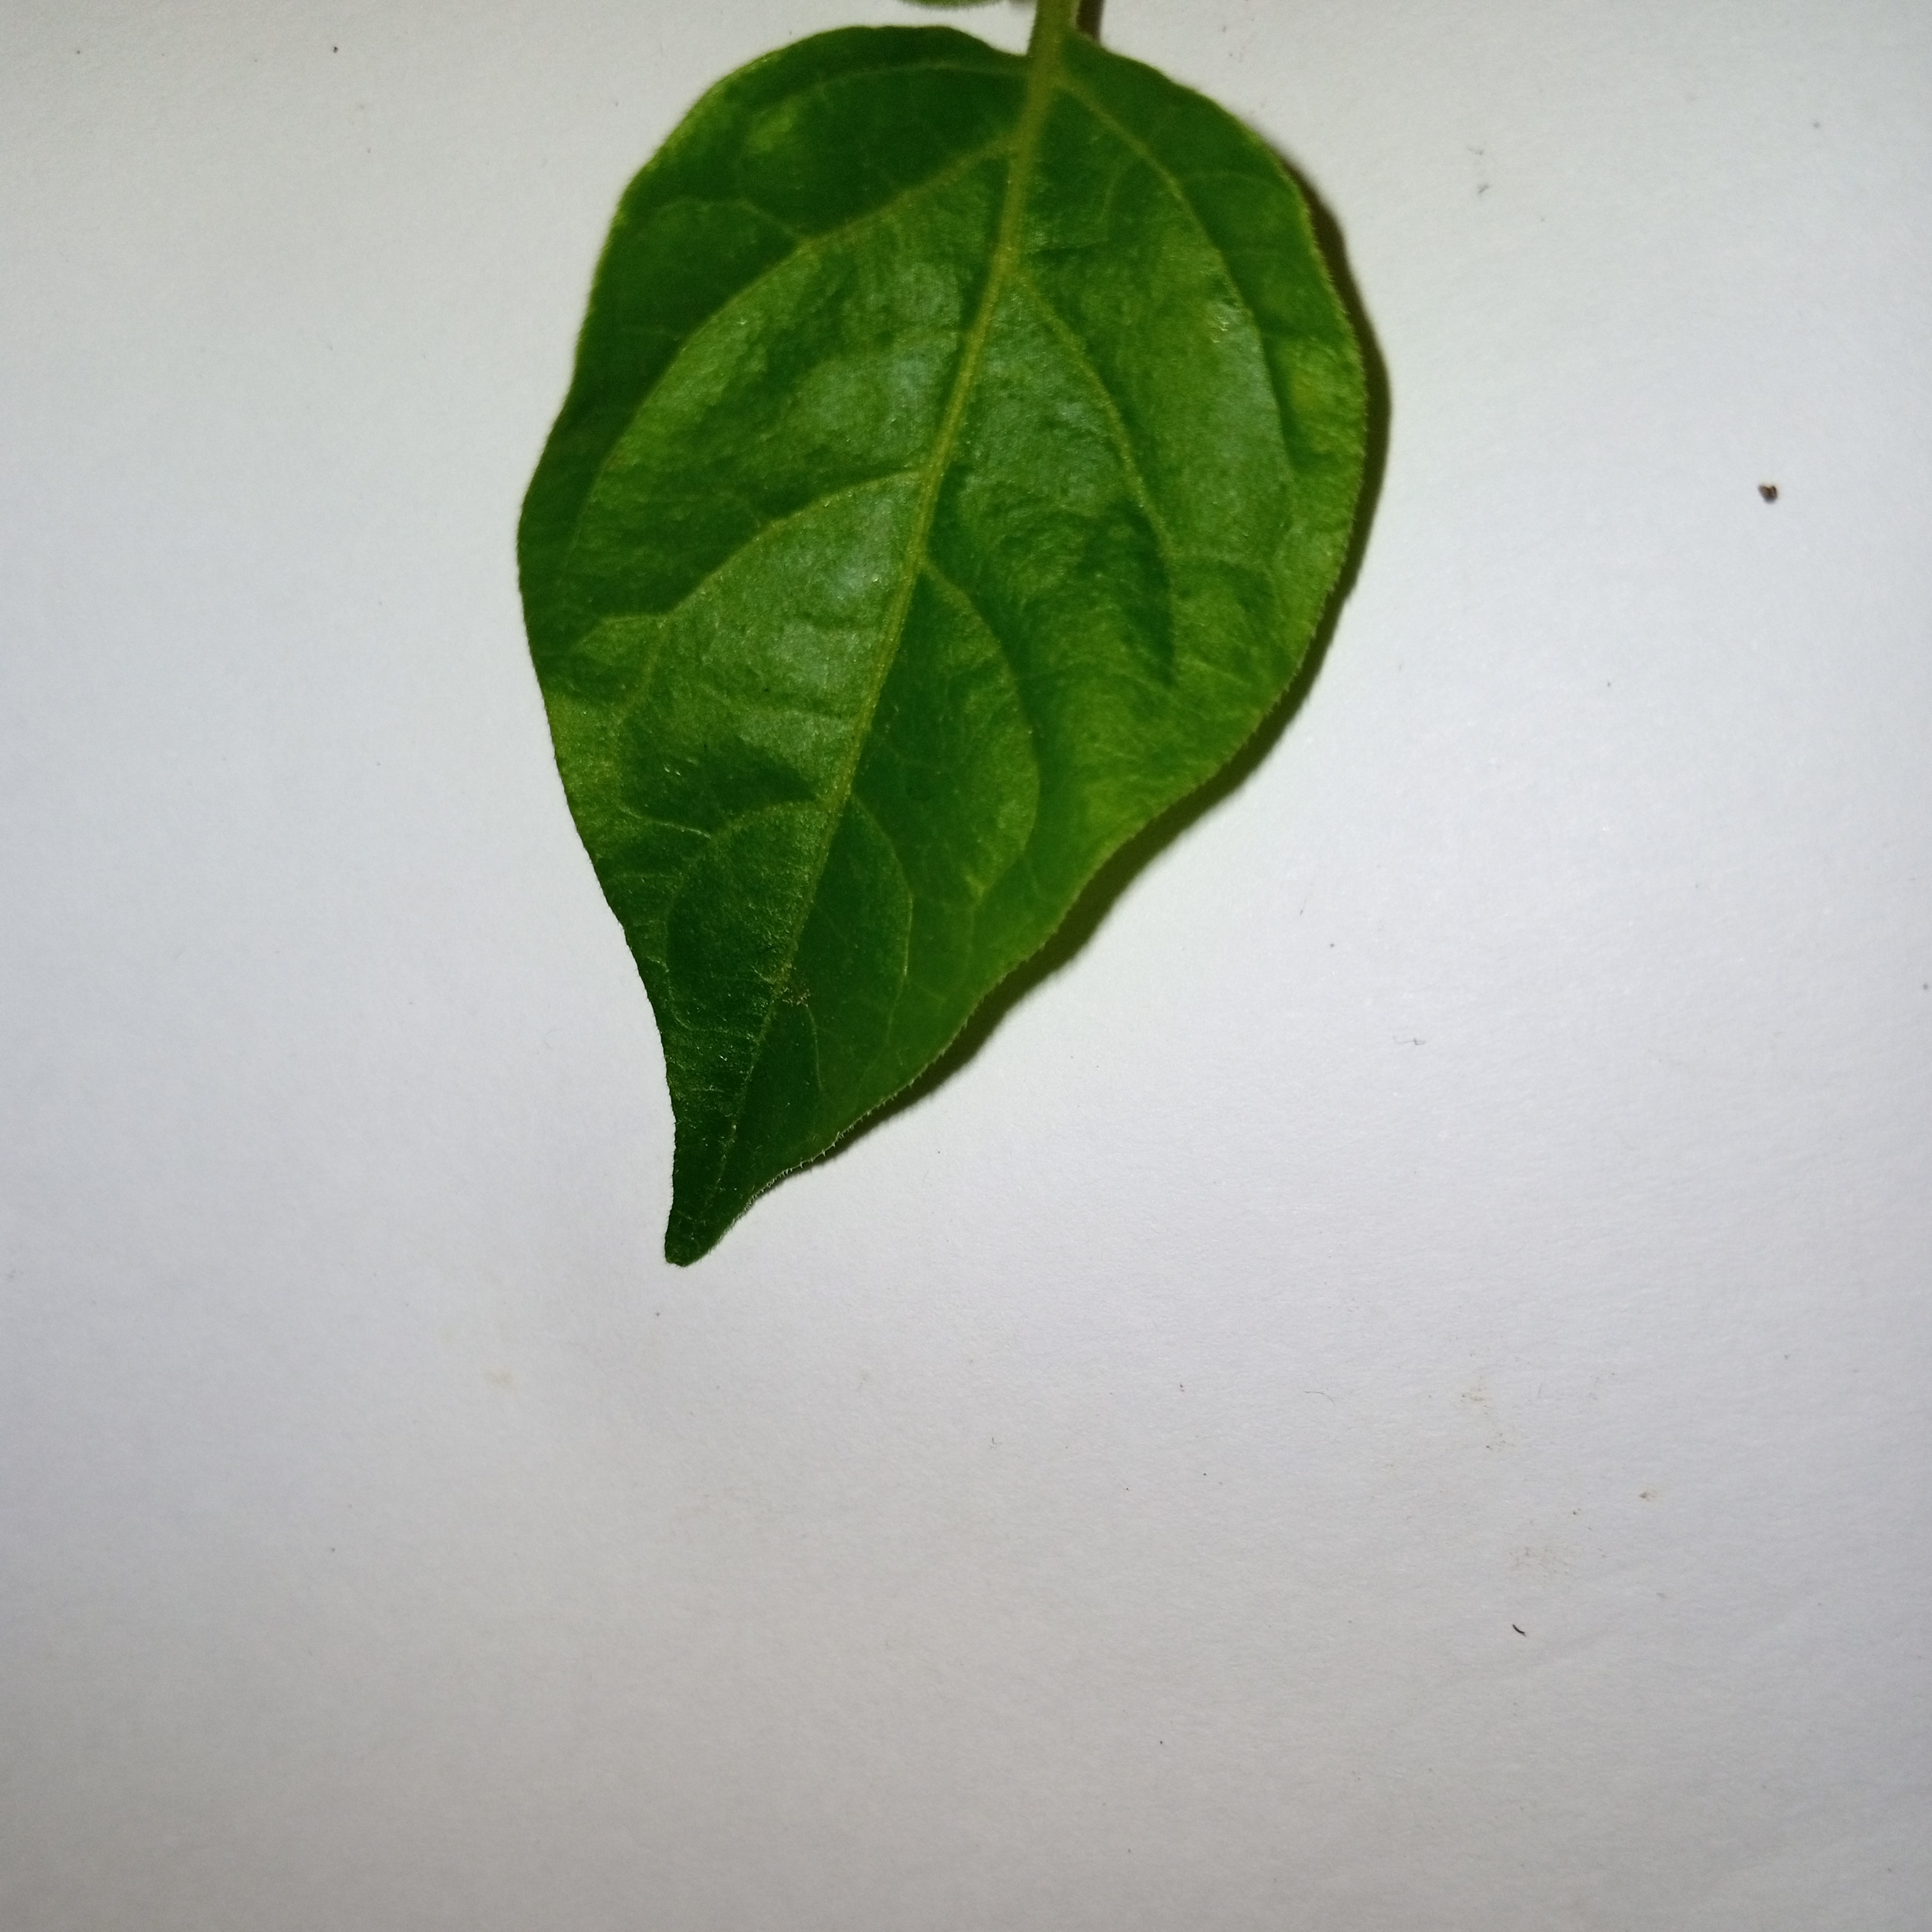Leaf: (502, 19, 1559, 1350)
